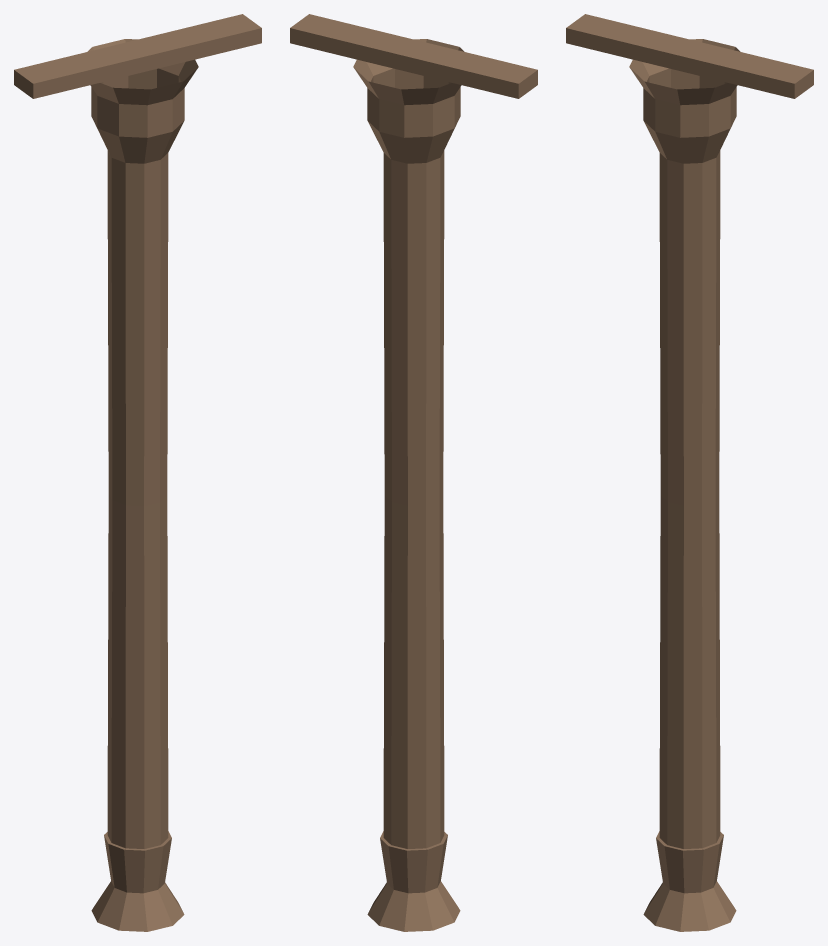
Rendered from kit_pillar_wood.glb.
The picture shows the model from 3 angles, left to right: view 1: azimuth 30°, elevation 25°; view 2: azimuth 150°, elevation 25°; view 3: azimuth 330°, elevation 25°; orthographic projection.
Parts seen in each view (by area): view 1: kit_pillar_wood; view 2: kit_pillar_wood; view 3: kit_pillar_wood.
Boxes of the visible parts, left/top/right/bottom form: kit_pillar_wood: left=14, top=14, right=261, bottom=931; kit_pillar_wood: left=290, top=14, right=537, bottom=931; kit_pillar_wood: left=566, top=14, right=813, bottom=931.
Bounding box in the file's own units: 1.1 × 3.97 × 0.4851.
